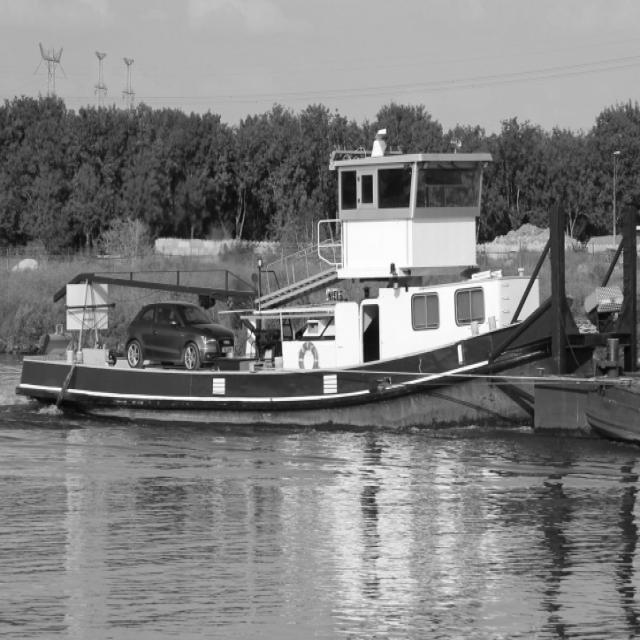tugboat: (10, 127, 640, 455)
